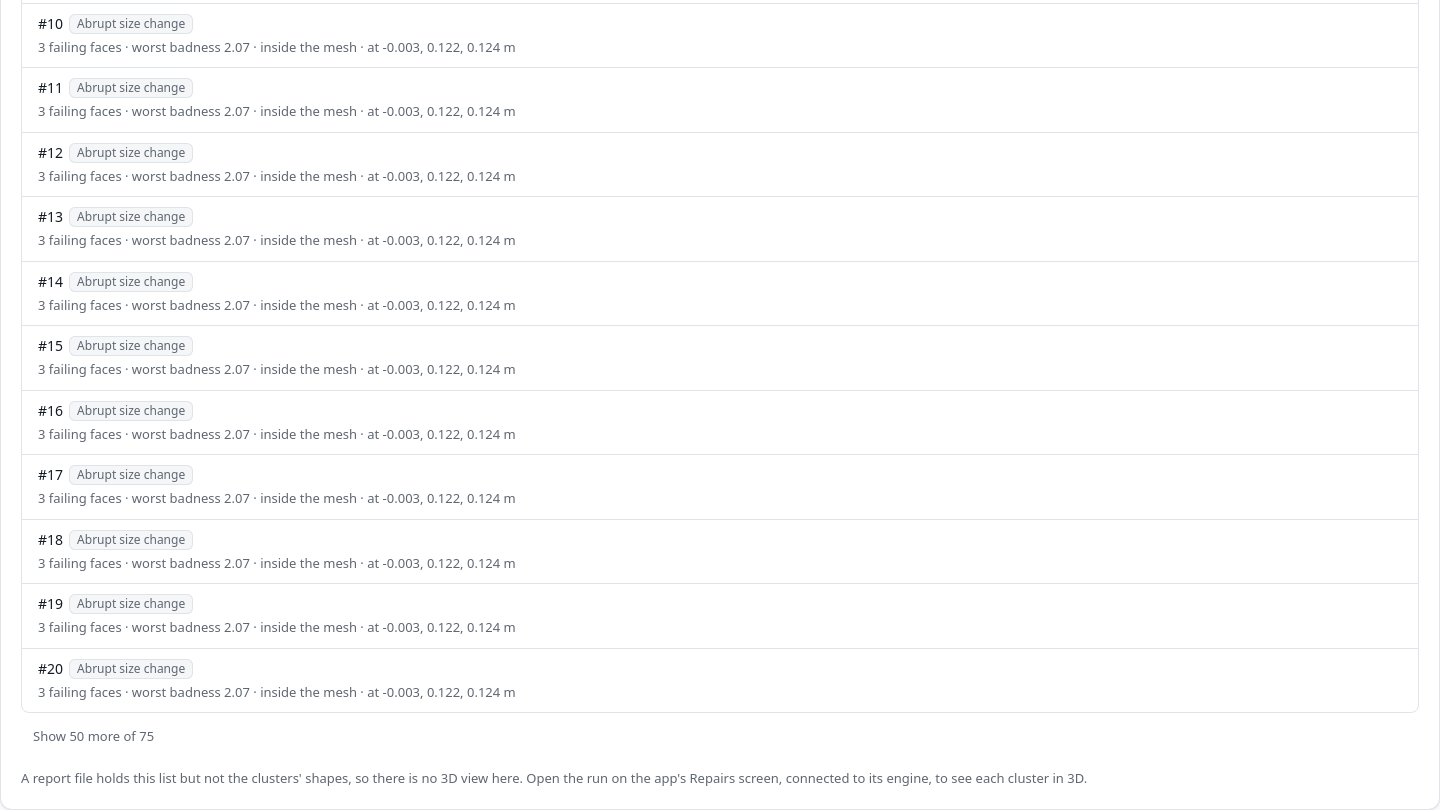
it: ClustersCard › shows 20 at first, then 50 more at a time
(page scrolled)
Click the button "Show 50 more of 75" at (94, 737), box [21, 721, 166, 753]
(page scrolled)
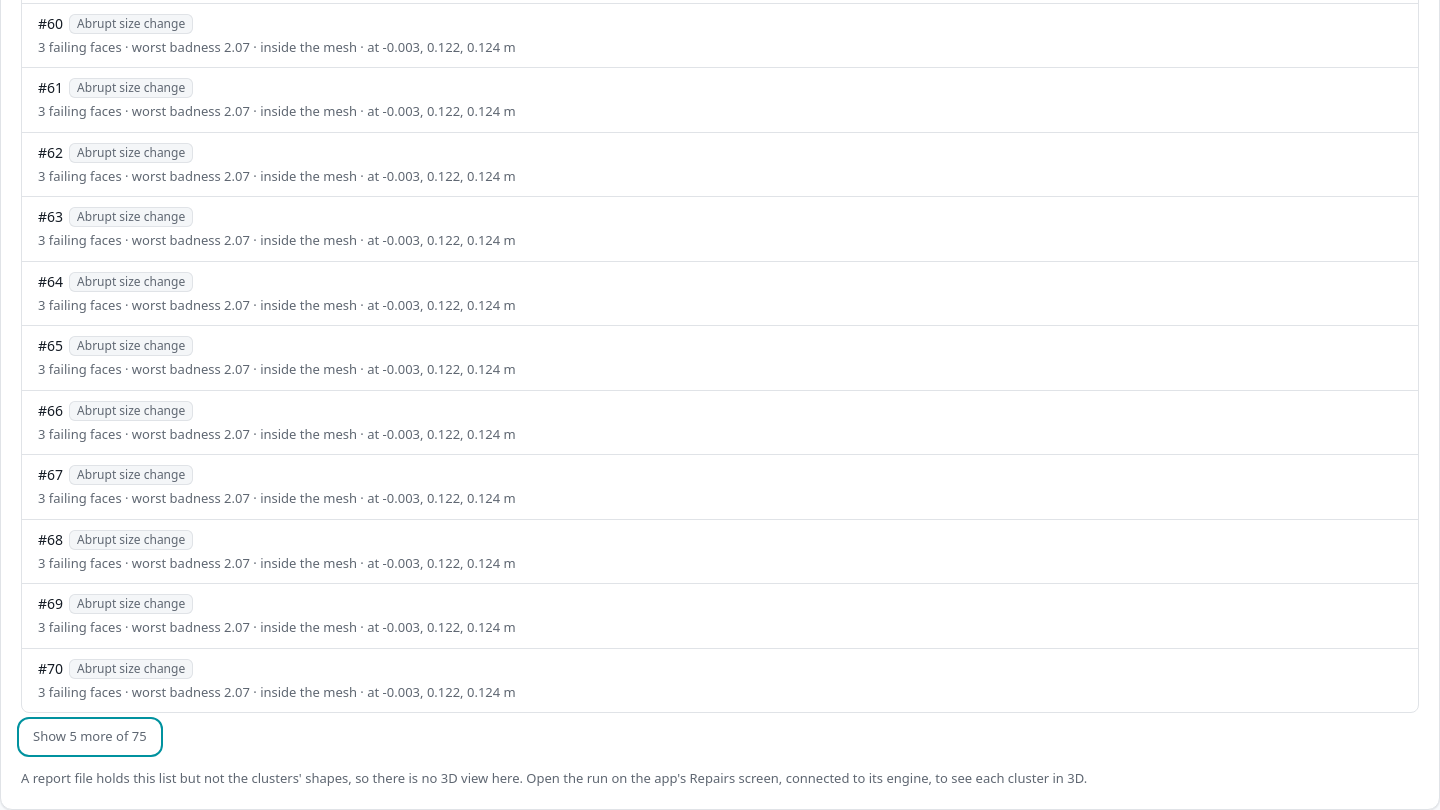
Click the button "Show 5 more of 75" at (90, 737), box [21, 721, 159, 753]
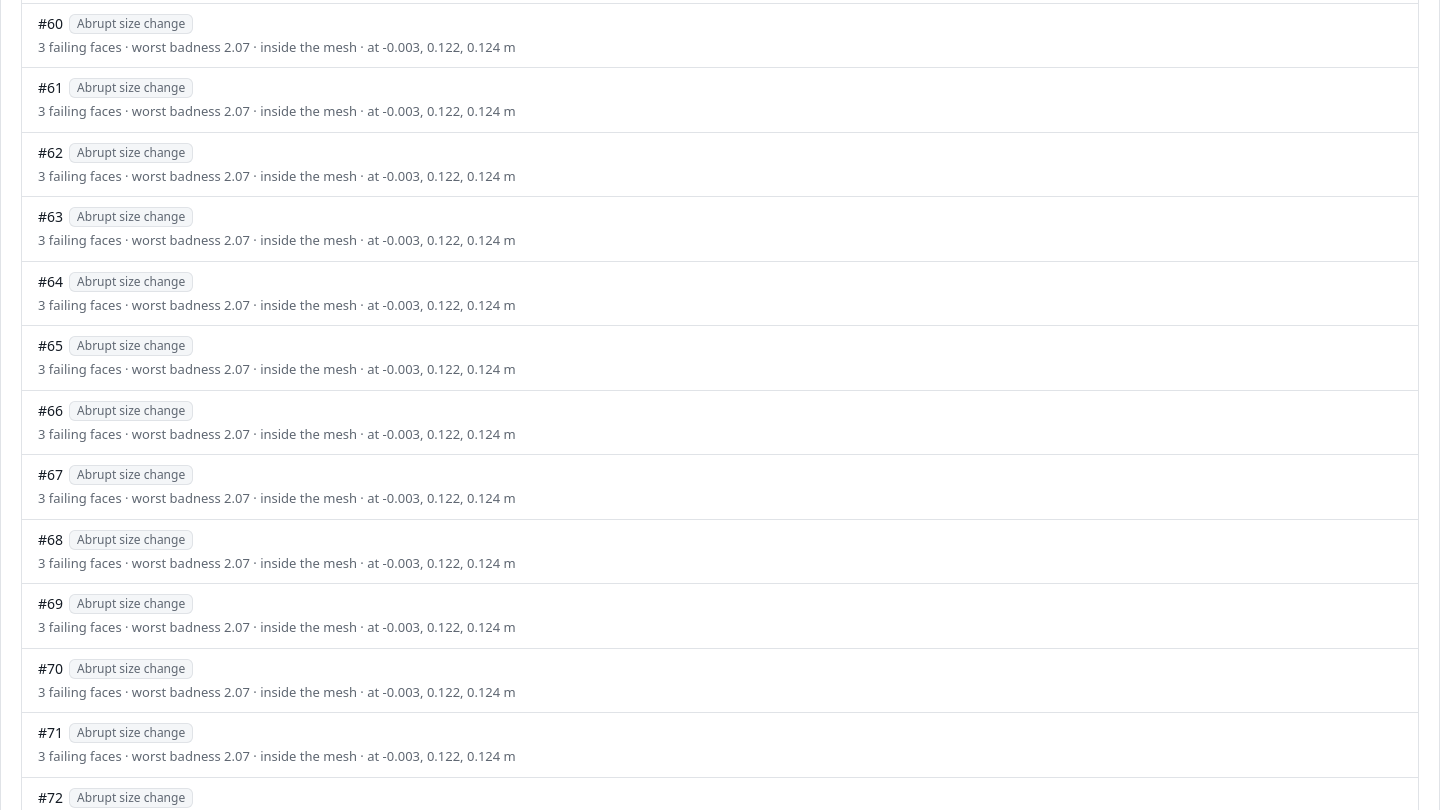
Check: the button "more of" is gone
